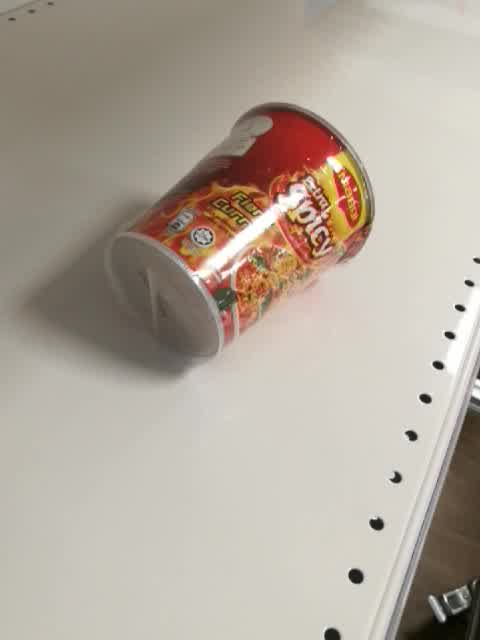maggi: (104, 101, 376, 362)
